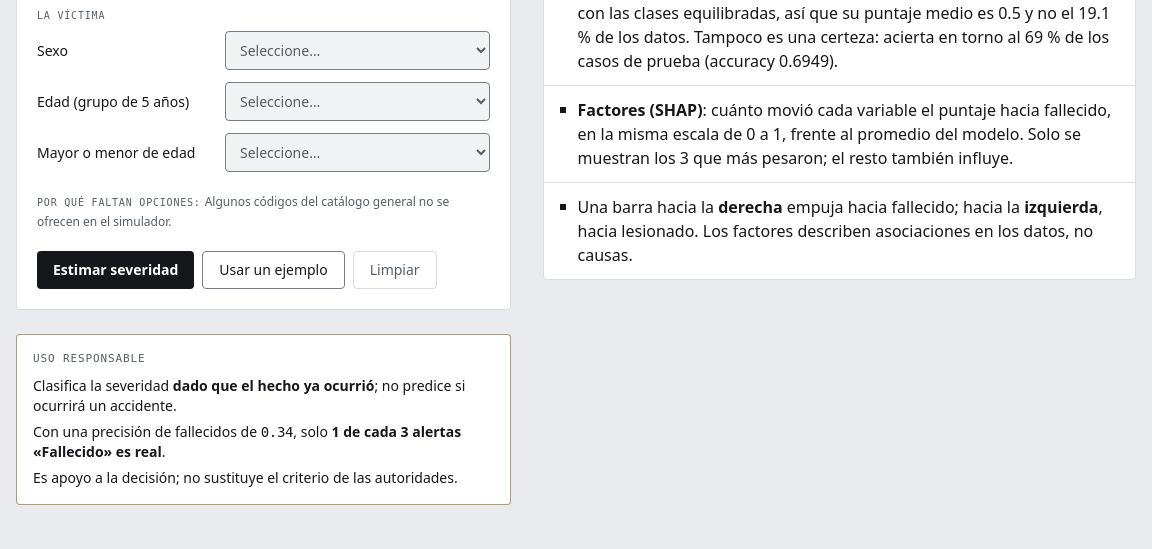
Simulador › 422: mensaje claro con el campo rechazado
This screenshot has width=1152, height=549.
(page scrolled)
Click the button "Usar un ejemplo": (274, 270) [202,251,345,289]
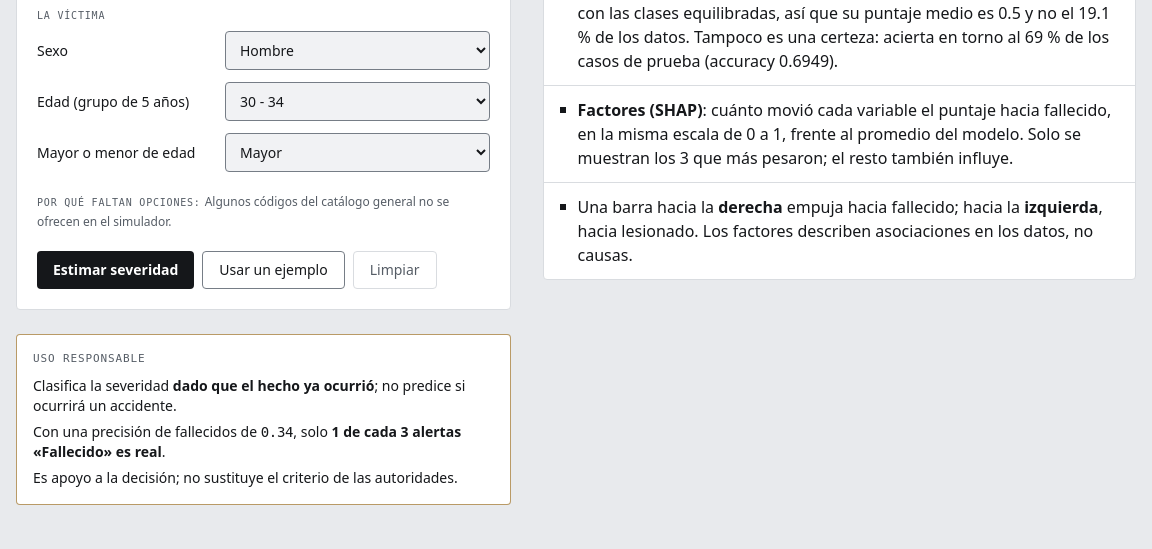
Click the button "Estimar severidad": (116, 270) [37,251,194,289]
(page scrolled)
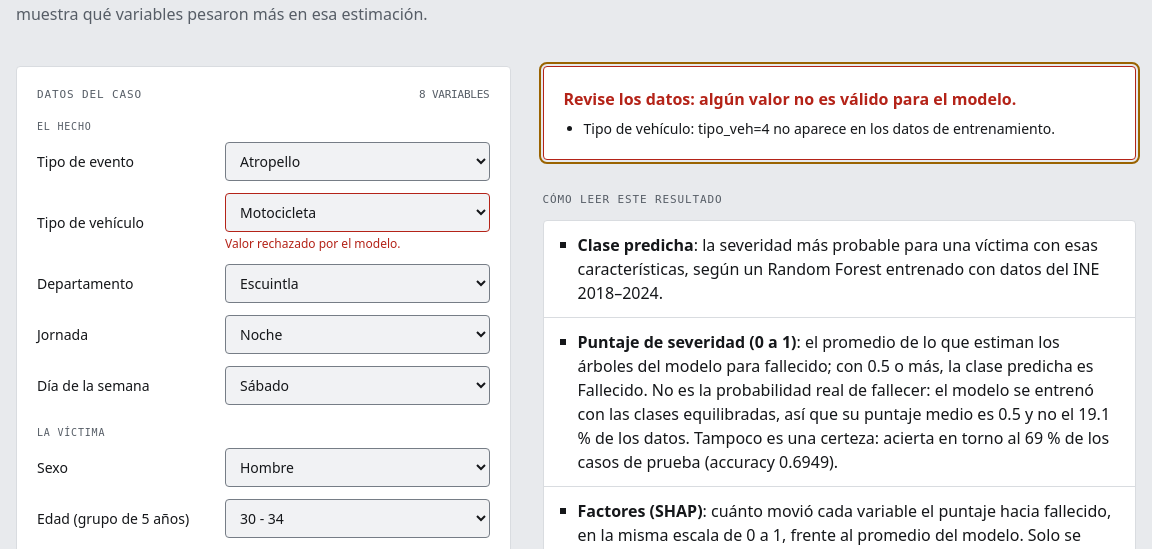
Check: the text "Revise los datos: algún valor no es válido para el modelo." is shown, box [564,88,1016,110]
Check: the list item "Tipo de vehículo: tipo_veh=4 no aparece en los datos de entrenamiento." is shown, box [584,118,1115,138]
